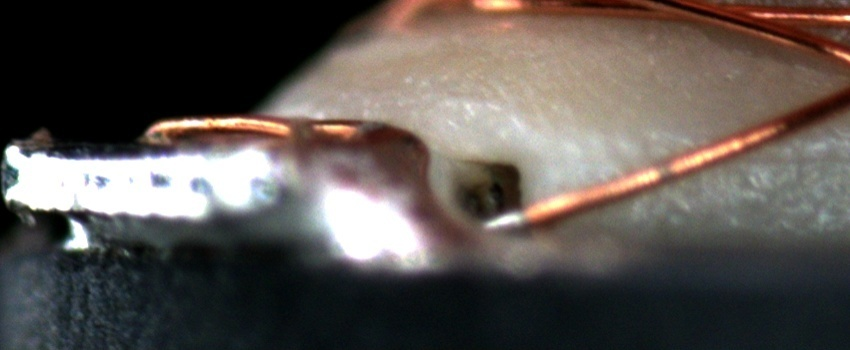DL: (733, 125, 850, 187)
TE: (140, 105, 378, 147)
